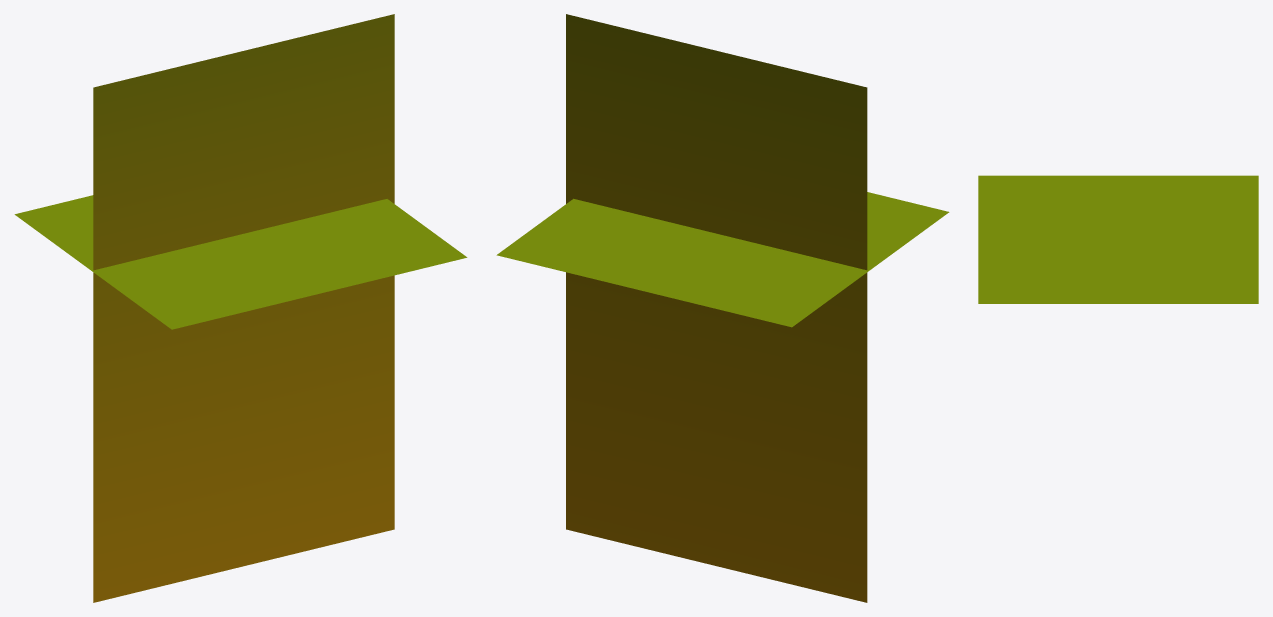
File: Water Cabbage_LOD3_Var1_sjdlV.fbx
3 renders of one model, left to right at view 1: azimuth 30°, elevation 25°; view 2: azimuth 150°, elevation 25°; view 3: azimuth 270°, elevation 25°, orthographic. The views are drawn at different scales.
Visible parts, largest first — view 1: _1348_Var1_LOD3; view 2: _1348_Var1_LOD3; view 3: _1348_Var1_LOD3.
Boxes of the visible parts, x1,y1,x2,y2 form: _1348_Var1_LOD3: (14, 14, 467, 602); _1348_Var1_LOD3: (496, 14, 949, 602); _1348_Var1_LOD3: (978, 175, 1258, 303).
Size of the model in its own units: 20.61 by 33.48 by 18.56.
